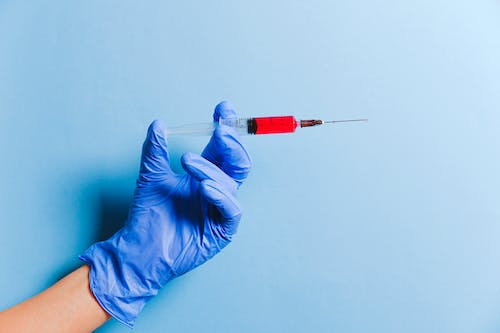blood: (252, 115, 323, 136)
